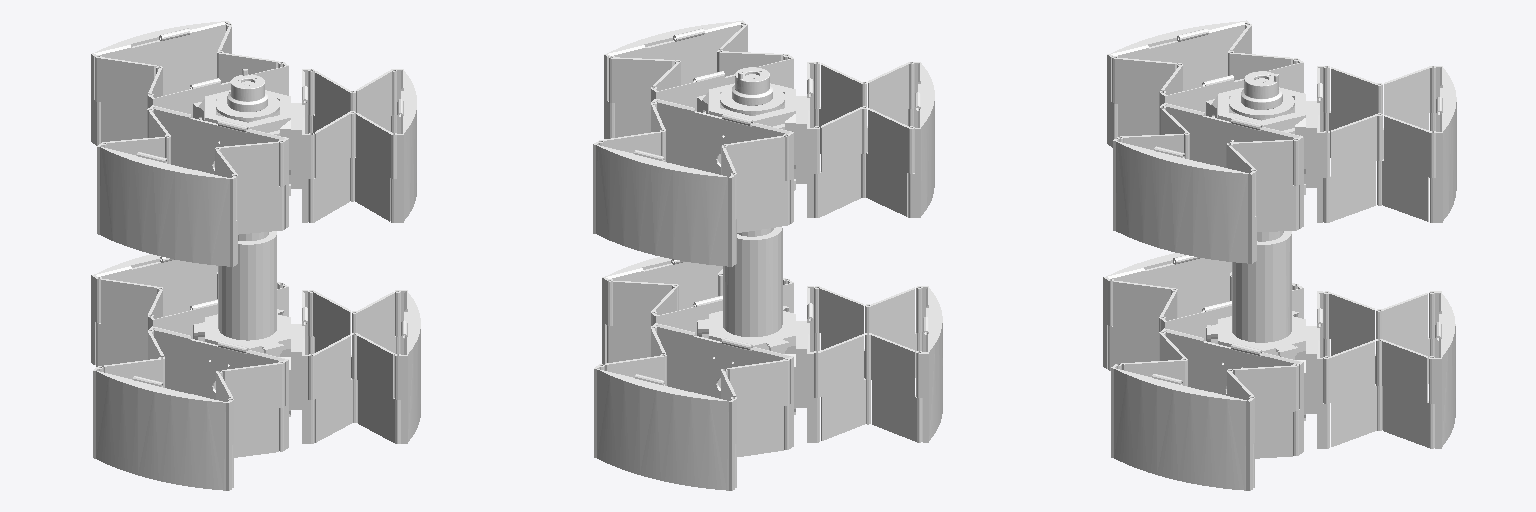
--- Facts derived from the render (not from the file) ---
Views: 3 orthographic renders of the robot side by side, from view 1: azimuth 30°, elevation 25°; view 2: azimuth 150°, elevation 25°; view 3: azimuth 270°, elevation 25°.
Robot: robot_model — 33 links, 32 joints (31 revolute, 1 prismatic); root link base_link; default pose: every joint at zero.
Links seen in each view (by area): view 1: base_link, upper_base_link, bottom_link_3_3, upper_link_3_3, upper_link_1_3, bottom_link_1_3, bottom_link_3_1, upper_link_3_1, bottom_link_1_2, upper_link_1_2, bottom_link_2_4, bottom_link_2_5 (+11 smaller); view 2: base_link, upper_base_link, upper_link_1_3, bottom_link_1_3, upper_link_1_1, bottom_link_1_1, bottom_link_3_5, bottom_link_3_4, upper_link_2_3, upper_link_3_5, upper_link_3_4, bottom_link_2_3 (+11 smaller); view 3: base_link, bottom_link_2_3, upper_link_2_3, upper_base_link, upper_link_3_3, bottom_link_3_3, upper_link_1_4, bottom_link_1_4, bottom_link_1_5, upper_link_1_5, bottom_link_3_2, bottom_link_2_1 (+13 smaller).
Boxes of the visible links, <box> form: base_link: <box>149,231,314,451</box>; upper_base_link: <box>147,62,314,240</box>; bottom_link_3_3: <box>93,366,233,490</box>; upper_link_3_3: <box>97,144,237,266</box>; upper_link_1_3: <box>91,21,229,145</box>; bottom_link_1_3: <box>91,254,217,364</box>; bottom_link_3_1: <box>222,361,284,457</box>; upper_link_3_1: <box>215,142,284,234</box>; bottom_link_1_2: <box>96,279,162,366</box>; upper_link_1_2: <box>95,55,157,142</box>; bottom_link_2_4: <box>308,334,357,442</box>; bottom_link_2_5: <box>352,333,400,443</box>; base_link: <box>653,227,819,449</box>; upper_base_link: <box>651,54,819,236</box>; upper_link_1_3: <box>593,142,736,266</box>; bottom_link_1_3: <box>594,364,736,490</box>; upper_link_1_1: <box>721,136,789,232</box>; bottom_link_1_1: <box>726,358,789,456</box>; bottom_link_3_5: <box>865,333,922,442</box>; bottom_link_3_4: <box>814,334,870,440</box>; upper_link_2_3: <box>604,20,744,138</box>; upper_link_3_5: <box>861,108,914,216</box>; upper_link_3_4: <box>814,106,866,217</box>; bottom_link_2_3: <box>602,257,722,363</box>; base_link: <box>1161,231,1329,455</box>; bottom_link_2_3: <box>1111,364,1254,490</box>; upper_link_2_3: <box>1113,139,1256,263</box>; upper_base_link: <box>1159,58,1329,241</box>; upper_link_3_3: <box>1107,20,1248,147</box>; bottom_link_3_3: <box>1103,253,1231,368</box>; upper_link_1_4: <box>1323,113,1382,222</box>; bottom_link_1_4: <box>1323,340,1382,446</box>; bottom_link_1_5: <box>1376,339,1434,448</box>; upper_link_1_5: <box>1377,115,1435,221</box>; bottom_link_3_2: <box>1108,281,1177,370</box>; bottom_link_2_1: <box>1233,364,1298,458</box>.
Bounding box of the posed robot: 0.3412 × 0.3211 × 0.3463 m (x, y, z).
Meshes: 33 distinct files referenced, 32 mesh visuals loaded (32 binary STL); not drawn: 1 (reference not matched to a file when rendering).

The robot description file, URDF, robot "robot_model":
<?xml version="1.0" encoding="utf-8"?>
<!-- This URDF was automatically created by SolidWorks to URDF Exporter! Originally created by Stephen Brawner ([email redacted]) 
     Commit Version: 1.6.0-4-g7f85cfe  Build Version: 1.6.7995.38578
     For more information, please see http://wiki.ros.org/sw_urdf_exporter -->
<robot
  name="robot_model">
  <link
    name="base_link">
    <inertial>
      <origin
        xyz="0 -6.9389E-17 0.061246"
        rpy="0 0 0" />
      <mass
        value="0.50026" />
      <inertia
        ixx="0.0011078"
        ixy="5.421E-20"
        ixz="2.1176E-20"
        iyy="0.0011078"
        iyz="-5.438E-19"
        izz="0.00063517" />
    </inertial>
    <visual>
      <origin
        xyz="0 0 0"
        rpy="0 0 0" />
      <geometry>
        <mesh
          filename="package://robot_model/meshes/base_link.STL" />
      </geometry>
      <material
        name="">
        <color
          rgba="1 1 1 1" />
      </material>
    </visual>
    <collision>
      <origin
        xyz="0 0 0"
        rpy="0 0 0" />
      <geometry>
        <mesh
          filename="package://robot_model/meshes/base_link.STL" />
      </geometry>
    </collision>
  </link>
  <link
    name="bottom_link_1_1">
    <inertial>
      <origin
        xyz="0.032953 0.0015 -0.043236"
        rpy="0 0 0" />
      <mass
        value="0.016709" />
      <inertia
        ixx="1.1115E-05"
        ixy="-8.0627E-08"
        ixz="1.8107E-06"
        iyy="1.6771E-05"
        iyz="5.8697E-08"
        izz="5.6972E-06" />
    </inertial>
    <visual>
      <origin
        xyz="0 0 0"
        rpy="0 0 0" />
      <geometry>
        <mesh
          filename="package://robot_model/meshes/bottom_link_1_1.STL" />
      </geometry>
      <material
        name="">
        <color
          rgba="1 1 1 1" />
      </material>
    </visual>
    <collision>
      <origin
        xyz="0 0 0"
        rpy="0 0 0" />
      <geometry>
        <mesh
          filename="package://robot_model/meshes/bottom_link_1_1.STL" />
      </geometry>
    </collision>
  </link>
  <joint
    name="bottom_joint_1_1"
    type="revolute">
    <origin
      xyz="-0.07 0.059 0.085"
      rpy="0 0.055591 0.85204" />
    <parent
      link="base_link" />
    <child
      link="bottom_link_1_1" />
    <axis
      xyz="0.055562 0 -0.99846" />
    <limit
      lower="0"
      upper="0"
      effort="0"
      velocity="0" />
  </joint>
  <link
    name="bottom_link_1_2">
    <inertial>
      <origin
        xyz="0.0305 -0.0015 -0.045"
        rpy="0 0 0" />
      <mass
        value="0.016709" />
      <inertia
        ixx="1.1299E-05"
        ixy="7.7241E-08"
        ixz="1.499E-06"
        iyy="1.6771E-05"
        iyz="-6.3086E-08"
        izz="5.5131E-06" />
    </inertial>
    <visual>
      <origin
        xyz="0 0 0"
        rpy="0 0 0" />
      <geometry>
        <mesh
          filename="package://robot_model/meshes/bottom_link_1_2.STL" />
      </geometry>
      <material
        name="">
        <color
          rgba="1 1 1 1" />
      </material>
    </visual>
    <collision>
      <origin
        xyz="0 0 0"
        rpy="0 0 0" />
      <geometry>
        <mesh
          filename="package://robot_model/meshes/bottom_link_1_2.STL" />
      </geometry>
    </collision>
  </link>
  <joint
    name="bottom_joint_1_2"
    type="revolute">
    <origin
      xyz="0.060906 0.003 0.0033893"
      rpy="-0.055099 -0.0073835 1.4377" />
    <parent
      link="bottom_link_1_1" />
    <child
      link="bottom_link_1_2" />
    <axis
      xyz="0 0 -1" />
    <limit
      lower="0"
      upper="0"
      effort="0"
      velocity="0" />
  </joint>
  <link
    name="bottom_link_1_3">
    <inertial>
      <origin
        xyz="0.070001 0.011933 -0.044687"
        rpy="0 0 0" />
      <mass
        value="0.14664" />
      <inertia
        ixx="0.00010095"
        ixy="4.7547E-10"
        ixz="-9.3214E-07"
        iyy="0.00028902"
        iyz="3.1691E-07"
        izz="0.00019062" />
    </inertial>
    <visual>
      <origin
        xyz="0 0 0"
        rpy="0 0 0" />
      <geometry>
        <mesh
          filename="package://robot_model/meshes/bottom_link_1_3.STL" />
      </geometry>
      <material
        name="">
        <color
          rgba="1 1 1 1" />
      </material>
    </visual>
    <collision>
      <origin
        xyz="0 0 0"
        rpy="0 0 0" />
      <geometry>
        <mesh
          filename="package://robot_model/meshes/bottom_link_1_3.STL" />
      </geometry>
    </collision>
  </link>
  <joint
    name="bottom_joint_1_3"
    type="revolute">
    <origin
      xyz="0.061 -0.003 0"
      rpy="0 0 -2.2896" />
    <parent
      link="bottom_link_1_2" />
    <child
      link="bottom_link_1_3" />
    <axis
      xyz="0 0 -1" />
    <limit
      lower="0"
      upper="0"
      effort="0"
      velocity="0" />
  </joint>
  <link
    name="bottom_link_1_4">
    <inertial>
      <origin
        xyz="0.0305 -0.0015 -0.0450000000000001"
        rpy="0 0 0" />
      <mass
        value="0.0167092266655334" />
      <inertia
        ixx="1.12993899246112E-05"
        ixy="7.72408699481511E-08"
        ixz="1.49898179922226E-06"
        iyy="1.67711222702261E-05"
        iyz="-6.308639996175E-08"
        izz="5.51305619636719E-06" />
    </inertial>
    <visual>
      <origin
        xyz="0 0 0"
        rpy="0 0 0" />
      <geometry>
        <mesh
          filename="package://robot_model/meshes/bottom_link_1_4.STL" />
      </geometry>
      <material
        name="">
        <color
          rgba="1 1 1 1" />
      </material>
    </visual>
    <collision>
      <origin
        xyz="0 0 0"
        rpy="0 0 0" />
      <geometry>
        <mesh
          filename="package://robot_model/meshes/bottom_link_1_4.STL" />
      </geometry>
    </collision>
  </link>
  <joint
    name="bottom_joint_1_4"
    type="revolute">
    <origin
      xyz="0.07 0.059 0.085"
      rpy="0 0 2.2896" />
    <parent
      link="base_link" />
    <child
      link="bottom_link_1_4" />
    <axis
      xyz="0 0 -1" />
    <limit
      lower="0"
      upper="0"
      effort="0"
      velocity="0" />
  </joint>
  <link
    name="bottom_link_1_5">
    <inertial>
      <origin
        xyz="0.0305 0.0015 -0.045"
        rpy="0 0 0" />
      <mass
        value="0.0167092266655333" />
      <inertia
        ixx="1.12993899246111E-05"
        ixy="-7.72408699481488E-08"
        ixz="1.49898179922225E-06"
        iyy="1.67711222702261E-05"
        iyz="6.30863999617497E-08"
        izz="5.51305619636717E-06" />
    </inertial>
    <visual>
      <origin
        xyz="0 0 0"
        rpy="0 0 0" />
      <geometry>
        <mesh
          filename="package://robot_model/meshes/bottom_link_1_5.STL" />
      </geometry>
      <material
        name="">
        <color
          rgba="1 1 1 1" />
      </material>
    </visual>
    <collision>
      <origin
        xyz="0 0 0"
        rpy="0 0 0" />
      <geometry>
        <mesh
          filename="package://robot_model/meshes/bottom_link_1_5.STL" />
      </geometry>
    </collision>
  </link>
  <joint
    name="bottom_joint_1_5"
    type="revolute">
    <origin
      xyz="0.061 -0.003 0"
      rpy="0 0 -1.4375" />
    <parent
      link="bottom_link_1_4" />
    <child
      link="bottom_link_1_5" />
    <axis
      xyz="0 0 -1" />
    <limit
      lower="0"
      upper="0"
      effort="0"
      velocity="0" />
  </joint>
  <link
    name="bottom_link_2_1">
    <inertial>
      <origin
        xyz="0.0323038618709952 0.00150000000002677 -0.0437231118313758"
        rpy="0 0 0" />
      <mass
        value="0.0167092266655333" />
      <inertia
        ixx="1.11680760652139E-05"
        ixy="-7.97412442441504E-08"
        ixz="1.72902542443584E-06"
        iyy="1.6771122270226E-05"
        iyz="5.98947394758148E-08"
        izz="5.64437005576434E-06" />
    </inertial>
    <visual>
      <origin
        xyz="0 0 0"
        rpy="0 0 0" />
      <geometry>
        <mesh
          filename="package://robot_model/meshes/bottom_link_2_1.STL" />
      </geometry>
      <material
        name="">
        <color
          rgba="1 1 1 1" />
      </material>
    </visual>
    <collision>
      <origin
        xyz="0 0 0"
        rpy="0 0 0" />
      <geometry>
        <mesh
          filename="package://robot_model/meshes/bottom_link_2_1.STL" />
      </geometry>
    </collision>
  </link>
  <joint
    name="bottom_joint_2_1"
    type="revolute">
    <origin
      xyz="0.086095 0.031122 0.085"
      rpy="0 0.040657 -1.4272" />
    <parent
      link="base_link" />
    <child
      link="bottom_link_2_1" />
    <axis
      xyz="0.040646 0 -0.99917" />
    <limit
      lower="0"
      upper="0"
      effort="0"
      velocity="0" />
  </joint>
  <link
    name="bottom_link_2_2">
    <inertial>
      <origin
        xyz="0.0316816988000864 -0.0015 -0.0441760111501776"
        rpy="0 0 0" />
      <mass
        value="0.0167092266655333" />
      <inertia
        ixx="1.12159150610143E-05"
        ixy="7.88854092632054E-08"
        ixz="1.65014902364536E-06"
        iyy="1.67711222702261E-05"
        iyz="-6.10175225313025E-08"
        izz="5.59653105996396E-06" />
    </inertial>
    <visual>
      <origin
        xyz="0 0 0"
        rpy="0 0 0" />
      <geometry>
        <mesh
          filename="package://robot_model/meshes/bottom_link_2_2.STL" />
      </geometry>
      <material
        name="">
        <color
          rgba="1 1 1 1" />
      </material>
    </visual>
    <collision>
      <origin
        xyz="0 0 0"
        rpy="0 0 0" />
      <geometry>
        <mesh
          filename="package://robot_model/meshes/bottom_link_2_2.STL" />
      </geometry>
    </collision>
  </link>
  <joint
    name="bottom_joint_2_2"
    type="revolute">
    <origin
      xyz="0.06095 0.003 0.0024794"
      rpy="-0.039551 0.036001 1.806" />
    <parent
      link="bottom_link_2_1" />
    <child
      link="bottom_link_2_2" />
    <axis
      xyz="0.026498 0 -0.99965" />
    <limit
      lower="0"
      upper="0"
      effort="0"
      velocity="0" />
  </joint>
  <link
    name="bottom_link_2_3">
    <inertial>
      <origin
        xyz="0.0699999817100601 0.0119307475595782 -0.0446871541670269"
        rpy="0 0 0" />
      <mass
        value="0.14664086162693" />
      <inertia
        ixx="0.0001009461163209"
        ixy="4.08874533460325E-10"
        ixz="-9.32140285730746E-07"
        iyy="0.000289021628271777"
        iyz="3.16909007234173E-07"
        izz="0.000190624860098751" />
    </inertial>
    <visual>
      <origin
        xyz="0 0 0"
        rpy="0 0 0" />
      <geometry>
        <mesh
          filename="package://robot_model/meshes/bottom_link_2_3.STL" />
      </geometry>
      <material
        name="">
        <color
          rgba="1 1 1 1" />
      </material>
    </visual>
    <collision>
      <origin
        xyz="0 0 0"
        rpy="0 0 0" />
      <geometry>
        <mesh
          filename="package://robot_model/meshes/bottom_link_2_3.STL" />
      </geometry>
    </collision>
  </link>
  <joint
    name="bottom_joint_2_3"
    type="revolute">
    <origin
      xyz="0.060979 -0.003 0.0016164"
      rpy="0.016401 0.020817 -2.4742" />
    <parent
      link="bottom_link_2_2" />
    <child
      link="bottom_link_2_3" />
    <axis
      xyz="0 0 -1" />
    <limit
      lower="0"
      upper="0"
      effort="0"
      velocity="0" />
  </joint>
  <link
    name="bottom_link_2_4">
    <inertial>
      <origin
        xyz="0.0316816988000293 -0.00149999999997225 -0.0441760111501792"
        rpy="0 0 0" />
      <mass
        value="0.0167092266655334" />
      <inertia
        ixx="1.12159150610143E-05"
        ixy="7.88854092632037E-08"
        ixz="1.65014902364536E-06"
        iyy="1.67711222702261E-05"
        iyz="-6.10175225313023E-08"
        izz="5.59653105996396E-06" />
    </inertial>
    <visual>
      <origin
        xyz="0 0 0"
        rpy="0 0 0" />
      <geometry>
        <mesh
          filename="package://robot_model/meshes/bottom_link_2_4.STL" />
      </geometry>
      <material
        name="">
        <color
          rgba="1 1 1 1" />
      </material>
    </visual>
    <collision>
      <origin
        xyz="0 0 0"
        rpy="0 0 0" />
      <geometry>
        <mesh
          filename="package://robot_model/meshes/bottom_link_2_4.STL" />
      </geometry>
    </collision>
  </link>
  <joint
    name="bottom_joint_2_4"
    type="revolute">
    <origin
      xyz="0.016095 -0.090122 0.085"
      rpy="0 0.026501 0.38001" />
    <parent
      link="base_link" />
    <child
      link="bottom_link_2_4" />
    <axis
      xyz="0.026498 0 -0.99965" />
    <limit
      lower="0"
      upper="0"
      effort="0"
      velocity="0" />
  </joint>
  <link
    name="bottom_link_2_5">
    <inertial>
      <origin
        xyz="0.0323038618710062 0.00149999999999999 -0.0437231118313753"
        rpy="0 0 0" />
      <mass
        value="0.0167092266655334" />
      <inertia
        ixx="1.11680760652139E-05"
        ixy="-7.97412442441517E-08"
        ixz="1.72902542443589E-06"
        iyy="1.67711222702261E-05"
        iyz="5.98947394758156E-08"
        izz="5.64437005576438E-06" />
    </inertial>
    <visual>
      <origin
        xyz="0 0 0"
        rpy="0 0 0" />
      <geometry>
        <mesh
          filename="package://robot_model/meshes/bottom_link_2_5.STL" />
      </geometry>
      <material
        name="">
        <color
          rgba="1 1 1 1" />
      </material>
    </visual>
    <collision>
      <origin
        xyz="0 0 0"
        rpy="0 0 0" />
      <geometry>
        <mesh
          filename="package://robot_model/meshes/bottom_link_2_5.STL" />
      </geometry>
    </collision>
  </link>
  <joint
    name="bottom_joint_2_5"
    type="revolute">
    <origin
      xyz="0.060979 -0.003 0.0016164"
      rpy="0.025792 0.04685 -1.8061" />
    <parent
      link="bottom_link_2_4" />
    <child
      link="bottom_link_2_5" />
    <axis
      xyz="0.040646 0 -0.99917" />
    <limit
      lower="0"
      upper="0"
      effort="0"
      velocity="0" />
  </joint>
  <link
    name="bottom_link_3_1">
    <inertial>
      <origin
        xyz="0.0304999999999998 0.00149999999999997 -0.045"
        rpy="0 0 0" />
      <mass
        value="0.0167092266655333" />
      <inertia
        ixx="1.12993899246111E-05"
        ixy="-7.72408699481509E-08"
        ixz="1.49898179922225E-06"
        iyy="1.6771122270226E-05"
        iyz="6.30863999617512E-08"
        izz="5.51305619636717E-06" />
    </inertial>
    <visual>
      <origin
        xyz="0 0 0"
        rpy="0 0 0" />
      <geometry>
        <mesh
          filename="package://robot_model/meshes/bottom_link_3_1.STL" />
      </geometry>
      <material
        name="">
        <color
          rgba="1 1 1 1" />
      </material>
    </visual>
    <collision>
      <origin
        xyz="0 0 0"
        rpy="0 0 0" />
      <geometry>
        <mesh
          filename="package://robot_model/meshes/bottom_link_3_1.STL" />
      </geometry>
    </collision>
  </link>
  <joint
    name="bottom_joint_3_1"
    type="revolute">
    <origin
      xyz="-0.016095 -0.090122 0.085"
      rpy="0 0 2.9167" />
    <parent
      link="base_link" />
    <child
      link="bottom_link_3_1" />
    <axis
      xyz="0 0 -1" />
    <limit
      lower="0"
      upper="0"
      effort="0"
      velocity="0" />
  </joint>
  <link
    name="bottom_link_3_2">
    <inertial>
      <origin
        xyz="0.0304999999999999 -0.00150000000000008 -0.045"
        rpy="0 0 0" />
      <mass
        value="0.0167092266655334" />
      <inertia
        ixx="1.12993899246111E-05"
        ixy="7.72408699481505E-08"
        ixz="1.49898179922225E-06"
        iyy="1.67711222702261E-05"
        iyz="-6.30863999617503E-08"
        izz="5.51305619636718E-06" />
    </inertial>
    <visual>
      <origin
        xyz="0 0 0"
        rpy="0 0 0" />
      <geometry>
        <mesh
          filename="package://robot_model/meshes/bottom_link_3_2.STL" />
      </geometry>
      <material
        name="">
        <color
          rgba="1 1 1 1" />
      </material>
    </visual>
    <collision>
      <origin
        xyz="0 0 0"
        rpy="0 0 0" />
      <geometry>
        <mesh
          filename="package://robot_model/meshes/bottom_link_3_2.STL" />
      </geometry>
    </collision>
  </link>
  <joint
    name="bottom_joint_3_2"
    type="revolute">
    <origin
      xyz="0.061 0.003 0"
      rpy="0 0 1.497" />
    <parent
      link="bottom_link_3_1" />
    <child
      link="bottom_link_3_2" />
    <axis
      xyz="0 0 -1" />
    <limit
      lower="0"
      upper="0"
      effort="0"
      velocity="0" />
  </joint>
  <link
    name="bottom_link_3_3">
    <inertial>
      <origin
        xyz="0.070000626800577 0.0119332957343058 -0.0446871895124752"
        rpy="0 0 0" />
      <mass
        value="0.14664410061026" />
      <inertia
        ixx="0.000100945970506456"
        ixy="4.06926128643931E-10"
        ixz="-9.32140319989326E-07"
        iyy="0.000289022168631917"
        iyz="3.16907445634966E-07"
        izz="0.000190625260305374" />
    </inertial>
    <visual>
      <origin
        xyz="0 0 0"
        rpy="0 0 0" />
      <geometry>
        <mesh
          filename="package://robot_model/meshes/bottom_link_3_3.STL" />
      </geometry>
      <material
        name="">
        <color
          rgba="1 1 1 1" />
      </material>
    </visual>
    <collision>
      <origin
        xyz="0 0 0"
        rpy="0 0 0" />
      <geometry>
        <mesh
          filename="package://robot_model/meshes/bottom_link_3_3.STL" />
      </geometry>
    </collision>
  </link>
  <joint
    name="bottom_joint_3_3"
    type="revolute">
    <origin
      xyz="0.061 -0.003 0"
      rpy="0 0 -2.3193" />
    <parent
      link="bottom_link_3_2" />
    <child
      link="bottom_link_3_3" />
    <axis
      xyz="0 0 -1" />
    <limit
      lower="0"
      upper="0"
      effort="0"
      velocity="0" />
  </joint>
  <link
    name="bottom_link_3_4">
    <inertial>
      <origin
        xyz="0.0304999999999999 -0.00149999999999999 -0.045"
        rpy="0 0 0" />
      <mass
        value="0.0167092266655333" />
      <inertia
        ixx="1.12993899246111E-05"
        ixy="7.72408699481509E-08"
        ixz="1.49898179922225E-06"
        iyy="1.67711222702261E-05"
        iyz="-6.30863999617501E-08"
        izz="5.51305619636718E-06" />
    </inertial>
    <visual>
      <origin
        xyz="0 0 0"
        rpy="0 0 0" />
      <geometry>
        <mesh
          filename="package://robot_model/meshes/bottom_link_3_4.STL" />
      </geometry>
      <material
        name="">
        <color
          rgba="1 1 1 1" />
      </material>
    </visual>
    <collision>
      <origin
        xyz="0 0 0"
        rpy="0 0 0" />
      <geometry>
        <mesh
          filename="package://robot_model/meshes/bottom_link_3_4.STL" />
      </geometry>
    </collision>
  </link>
  <joint
    name="bottom_joint_3_4"
    type="revolute">
    <origin
      xyz="-0.086095 0.031122 0.085"
      rpy="0 0 -1.8695" />
    <parent
      link="base_link" />
    <child
      link="bottom_link_3_4" />
    <axis
      xyz="0 0 -1" />
    <limit
      lower="0"
      upper="0"
      effort="0"
      velocity="0" />
  </joint>
  <link
    name="bottom_link_3_5">
    <inertial>
      <origin
        xyz="0.0305 0.00149999999999995 -0.045"
        rpy="0 0 0" />
      <mass
        value="0.0167092266655334" />
      <inertia
        ixx="1.12993899246111E-05"
        ixy="-7.72408699481521E-08"
        ixz="1.49898179922225E-06"
        iyy="1.67711222702261E-05"
        iyz="6.3086399961751E-08"
        izz="5.51305619636718E-06" />
    </inertial>
    <visual>
      <origin
        xyz="0 0 0"
        rpy="0 0 0" />
      <geometry>
        <mesh
          filename="package://robot_model/meshes/bottom_link_3_5.STL" />
      </geometry>
      <material
        name="">
        <color
          rgba="1 1 1 1" />
      </material>
    </visual>
    <collision>
      <origin
        xyz="0 0 0"
        rpy="0 0 0" />
      <geometry>
        <mesh
          filename="package://robot_model/meshes/bottom_link_3_5.STL" />
      </geometry>
    </collision>
  </link>
  <joint
    name="bottom_joint_3_5"
    type="revolute">
    <origin
      xyz="0.061 -0.003 0"
      rpy="0 0 -1.497" />
    <parent
      link="bottom_link_3_4" />
    <child
      link="bottom_link_3_5" />
    <axis
      xyz="0 0 -1" />
    <limit
      lower="0"
      upper="0"
      effort="0"
      velocity="0" />
  </joint>
  <link
    name="upper_base_link">
    <inertial>
      <origin
        xyz="3.8054621693262E-06 1.02185648802045E-05 0.10794535502489"
        rpy="0 0 0" />
      <mass
        value="0.385672064342801" />
      <inertia
        ixx="0.00093048171448076"
        ixy="-1.91722020977971E-08"
        ixz="-7.52239479311428E-09"
        iyy="0.000930437800700538"
        iyz="-2.00548156529821E-08"
        izz="0.000352171446989648" />
    </inertial>
    <visual>
      <origin
        xyz="0 0 0"
        rpy="0 0 0" />
      <geometry>
        <mesh
          filename="package://robot_model/meshes/upper_base_link.STL" />
      </geometry>
      <material
        name="">
        <color
          rgba="1 1 1 1" />
      </material>
    </visual>
    <collision>
      <origin
        xyz="0 0 0"
        rpy="0 0 0" />
      <geometry>
        <mesh
          filename="package://robot_model/meshes/upper_base_link.STL" />
      </geometry>
    </collision>
  </link>
  <joint
    name="upper_base_joint"
    type="prismatic">
    <origin
      xyz="0 0 0.13128"
      rpy="0 0 0" />
    <parent
      link="base_link" />
    <child
      link="upper_base_link" />
    <axis
      xyz="0 0 1" />
    <limit
      lower="-1"
      upper="1"
      effort="10"
      velocity="10" />
  </joint>
  <link
    name="upper_link_1_1">
    <inertial>
      <origin
        xyz="0.0330321547264932 0.00150000000000104 -0.0431755342077551"
        rpy="0 0 0" />
      <mass
        value="0.0167092266655333" />
      <inertia
        ixx="1.14520947743875E-05"
        ixy="-7.34932329622697E-08"
        ixz="-1.15759511079079E-06"
        iyy="1.67711222702261E-05"
        iyz="-6.74150618128821E-08"
        izz="5.36035134659078E-06" />
    </inertial>
    <visual>
      <origin
        xyz="0 0 0"
        rpy="0 0 0" />
      <geometry>
        <mesh
          filename="package://robot_model/meshes/upper_link_1_1.STL" />
      </geometry>
      <material
        name="">
        <color
          rgba="1 1 1 1" />
      </material>
    </visual>
    <collision>
      <origin
        xyz="0 0 0"
        rpy="0 0 0" />
      <geometry>
        <mesh
          filename="package://robot_model/meshes/upper_link_1_1.STL" />
      </geometry>
    </collision>
  </link>
  <joint
    name="upper_joint_1_1"
    type="revolute">
    <origin
      xyz="-0.07 0.059 0.18"
      rpy="0 0.057419 0.86401" />
    <parent
      link="upper_base_link" />
    <child
      link="upper_link_1_1" />
    <axis
      xyz="0.057387 0 -0.99835" />
    <limit
      lower="0"
      upper="0"
      effort="0"
      velocity="0" />
  </joint>
  <link
    name="upper_link_1_2">
    <inertial>
      <origin
        xyz="0.0304999999999992 -0.00149999999999961 -0.045"
        rpy="0 0 0" />
      <mass
        value="0.0167092266655333" />
      <inertia
        ixx="1.12993899246111E-05"
        ixy="7.72408699481494E-08"
        ixz="-1.49898179922226E-06"
        iyy="1.67711222702261E-05"
        iyz="6.30863999617509E-08"
        izz="5.51305619636718E-06" />
    </inertial>
    <visual>
      <origin
        xyz="0 0 0"
        rpy="0 0 0" />
      <geometry>
        <mesh
          filename="package://robot_model/meshes/upper_link_1_2.STL" />
      </geometry>
      <material
        name="">
        <color
          rgba="1 1 1 1" />
      </material>
    </visual>
    <collision>
      <origin
        xyz="0 0 0"
        rpy="0 0 0" />
      <geometry>
        <mesh
          filename="package://robot_model/meshes/upper_link_1_2.STL" />
      </geometry>
    </collision>
  </link>
  <joint
    name="upper_joint_1_2"
    type="revolute">
    <origin
      xyz="0.060899 0.003 0.0035006"
      rpy="-0.056712 -0.0089859 1.4138" />
    <parent
      link="upper_link_1_1" />
    <child
      link="upper_link_1_2" />
    <axis
      xyz="0 0 -1" />
    <limit
      lower="0"
      upper="0"
      effort="0"
      velocity="0" />
  </joint>
  <link
    name="upper_link_1_3">
    <inertial>
      <origin
        xyz="0.0699994466294927 0.011932926537144 -0.0453128069074418"
        rpy="0 0 0" />
      <mass
        value="0.146644072509461" />
      <inertia
        ixx="0.000100945826420388"
        ixy="-4.51350548183796E-10"
        ixz="-9.32140878461183E-07"
        iyy="0.000289022708610787"
        iyz="-3.16905927234267E-07"
        izz="0.000190625661837862" />
    </inertial>
    <visual>
      <origin
        xyz="0 0 0"
        rpy="0 0 0" />
      <geometry>
        <mesh
          filename="package://robot_model/meshes/upper_link_1_3.STL" />
      </geometry>
      <material
        name="">
        <color
          rgba="1 1 1 1" />
      </material>
    </visual>
    <collision>
      <origin
        xyz="0 0 0"
        rpy="0 0 0" />
      <geometry>
        <mesh
          filename="package://robot_model/meshes/upper_link_1_3.STL" />
      </geometry>
    </collision>
  </link>
  <joint
    name="upper_joint_1_3"
    type="revolute">
    <origin
      xyz="0.061 -0.003 0"
      rpy="0 0 -2.2776" />
    <parent
      link="upper_link_1_2" />
    <child
      link="upper_link_1_3" />
    <axis
      xyz="0 0 -1" />
    <limit
      lower="0"
      upper="0"
      effort="0"
      velocity="0" />
  </joint>
  <link
    name="upper_link_1_4">
    <inertial>
      <origin
        xyz="0.0304999999999999 -0.00150000000000072 -0.045"
        rpy="0 0 0" />
      <mass
        value="0.0167092266655334" />
      <inertia
        ixx="1.12993899246111E-05"
        ixy="7.72408699481507E-08"
        ixz="-1.49898179922225E-06"
        iyy="1.67711222702261E-05"
        iyz="6.30863999617501E-08"
        izz="5.51305619636718E-06" />
    </inertial>
    <visual>
      <origin
        xyz="0 0 0"
        rpy="0 0 0" />
      <geometry>
        <mesh
          filename="package://robot_model/meshes/upper_link_1_4.STL" />
      </geometry>
      <material
        name="">
        <color
          rgba="1 1 1 1" />
      </material>
    </visual>
    <collision>
      <origin
        xyz="0 0 0"
        rpy="0 0 0" />
      <geometry>
        <mesh
          filename="package://robot_model/meshes/upper_link_1_4.STL" />
      </geometry>
    </collision>
  </link>
  <joint
    name="upper_joint_1_4"
    type="revolute">
    <origin
      xyz="0.07 0.059 0.18"
      rpy="0 0 2.2776" />
    <parent
      link="upper_base_link" />
    <child
      link="upper_link_1_4" />
    <axis
      xyz="0 0 -1" />
    <limit
      lower="0"
      upper="0"
      effort="0"
      velocity="0" />
  </joint>
  <link
    name="upper_link_1_5">
    <inertial>
      <origin
        xyz="0.0330321547264928 0.00150000000000001 -0.0431755342077551"
        rpy="0 0 0" />
      <mass
        value="0.0167092266655333" />
      <inertia
        ixx="1.14520947743875E-05"
        ixy="-7.34932329622697E-08"
        ixz="-1.15759511079079E-06"
        iyy="1.67711222702261E-05"
        iyz="-6.74150618128823E-08"
        izz="5.36035134659077E-06" />
    </inertial>
    <visual>
      <origin
        xyz="0 0 0"
        rpy="0 0 0" />
      <geometry>
        <mesh
          filename="package://robot_model/meshes/upper_link_1_5.STL" />
      </geometry>
      <material
        name="">
        <color
          rgba="1 1 1 1" />
      </material>
    </visual>
    <collision>
      <origin
        xyz="0 0 0"
        rpy="0 0 0" />
      <geometry>
        <mesh
          filename="package://robot_model/meshes/upper_link_1_5.STL" />
      </geometry>
    </collision>
  </link>
  <joint
    name="upper_joint_1_5"
    type="revolute">
    <origin
      xyz="0.061 -0.003 0"
      rpy="0 0.057419 -1.4136" />
    <parent
      link="upper_link_1_4" />
    <child
      link="upper_link_1_5" />
    <axis
      xyz="0.057387 0 -0.99835" />
    <limit
      lower="0"
      upper="0"
      effort="0"
      velocity="0" />
  </joint>
  <link
    name="upper_link_2_1">
    <inertial>
      <origin
        xyz="0.0324368656416264 0.00149999999999348 -0.0436245314857049"
        rpy="0 0 0" />
      <mass
        value="0.0167092266655333" />
      <inertia
        ixx="1.14191973679731E-05"
        ixy="-7.44109634737808E-08"
        ixz="-1.24070413898489E-06"
        iyy="1.6771122270226E-05"
        iyz="-6.64007105789139E-08"
        izz="5.39324875300514E-06" />
    </inertial>
    <visual>
      <origin
        xyz="0 0 0"
        rpy="0 0 0" />
      <geometry>
        <mesh
          filename="package://robot_model/meshes/upper_link_2_1.STL" />
      </geometry>
      <material
        name="">
        <color
          rgba="1 1 1 1" />
      </material>
    </visual>
    <collision>
      <origin
        xyz="0 0 0"
        rpy="0 0 0" />
      <geometry>
        <mesh
          filename="package://robot_model/meshes/upper_link_2_1.STL" />
      </geometry>
    </collision>
  </link>
  <joint
    name="upper_joint_2_1"
    type="revolute">
    <origin
      xyz="0.086095 0.031122 0.18"
      rpy="0 0.043703 -1.4652" />
    <parent
      link="upper_base_link" />
    <child
      link="upper_link_2_1" />
    <axis
      xyz="0.043689 0 -0.99905" />
    <limit
      lower="0"
      upper="0"
      effort="0"
      velocity="0" />
  </joint>
  <link
    name="upper_link_2_2">
    <inertial>
      <origin
        xyz="0.0304999999999955 -0.00150000000000061 -0.045"
        rpy="0 0 0" />
      <mass
        value="0.0167092266655334" />
      <inertia
        ixx="1.12993899246111E-05"
        ixy="7.72408699481503E-08"
        ixz="-1.49898179922225E-06"
        iyy="1.67711222702261E-05"
        iyz="6.30863999617509E-08"
        izz="5.51305619636719E-06" />
    </inertial>
    <visual>
      <origin
        xyz="0 0 0"
        rpy="0 0 0" />
      <geometry>
        <mesh
          filename="package://robot_model/meshes/upper_link_2_2.STL" />
      </geometry>
      <material
        name="">
        <color
          rgba="1 1 1 1" />
      </material>
    </visual>
    <collision>
      <origin
        xyz="0 0 0"
        rpy="0 0 0" />
      <geometry>
        <mesh
          filename="package://robot_model/meshes/upper_link_2_2.STL" />
      </geometry>
    </collision>
  </link>
  <joint
    name="upper_joint_2_2"
    type="revolute">
    <origin
      xyz="0.060942 0.003 0.002665"
      rpy="-0.041591 0.013425 1.8828" />
    <parent
      link="upper_link_2_1" />
    <child
      link="upper_link_2_2" />
    <axis
      xyz="0 0 -1" />
    <limit
      lower="0"
      upper="0"
      effort="0"
      velocity="0" />
  </joint>
  <link
    name="upper_link_2_3">
    <inertial>
      <origin
        xyz="0.069999389681573 0.0119332969912204 -0.045312810858336"
        rpy="0 0 0" />
      <mass
        value="0.146644101046133" />
      <inertia
        ixx="0.000100945970159477"
        ixy="-4.41242520743496E-10"
        ixz="-9.32140680689395E-07"
        iyy="0.000289022172944385"
        iyz="-3.16906462410994E-07"
        izz="0.00019062526435715" />
    </inertial>
    <visual>
      <origin
        xyz="0 0 0"
        rpy="0 0 0" />
      <geometry>
        <mesh
          filename="package://robot_model/meshes/upper_link_2_3.STL" />
      </geometry>
      <material
        name="">
        <color
          rgba="1 1 1 1" />
      </material>
    </visual>
    <collision>
      <origin
        xyz="0 0 0"
        rpy="0 0 0" />
      <geometry>
        <mesh
          filename="package://robot_model/meshes/upper_link_2_3.STL" />
      </geometry>
    </collision>
  </link>
  <joint
    name="upper_joint_2_3"
    type="revolute">
    <origin
      xyz="0.061 -0.003 0"
      rpy="0 0 -2.5124" />
    <parent
      link="upper_link_2_2" />
    <child
      link="upper_link_2_3" />
    <axis
      xyz="0 0 -1" />
    <limit
      lower="0"
      upper="0"
      effort="0"
      velocity="0" />
  </joint>
  <link
    name="upper_link_2_4">
    <inertial>
      <origin
        xyz="0.0317244968562645 -0.00149999999995729 -0.0441452862626575"
        rpy="0 0 0" />
      <mass
        value="0.0167092266655333" />
      <inertia
        ixx="1.13773378479123E-05"
        ixy="7.54789496332979E-08"
        ixz="-1.33784821934645E-06"
        iyy="1.6771122270226E-05"
        iyz="6.51841546139475E-08"
        izz="5.435108273066E-06" />
    </inertial>
    <visual>
      <origin
        xyz="0 0 0"
        rpy="0 0 0" />
      <geometry>
        <mesh
          filename="package://robot_model/meshes/upper_link_2_4.STL" />
      </geometry>
      <material
        name="">
        <color
          rgba="1 1 1 1" />
      </material>
    </visual>
    <collision>
      <origin
        xyz="0 0 0"
        rpy="0 0 0" />
      <geometry>
        <mesh
          filename="package://robot_model/meshes/upper_link_2_4.STL" />
      </geometry>
    </collision>
  </link>
  <joint
    name="upper_joint_2_4"
    type="revolute">
    <origin
      xyz="0.016095 -0.090122 0.18"
      rpy="0 0.02747 0.41796" />
    <parent
      link="upper_base_link" />
    <child
      link="upper_link_2_4" />
    <axis
      xyz="0.027467 0 -0.99962" />
    <limit
      lower="0"
      upper="0"
      effort="0"
      velocity="0" />
  </joint>
  <link
    name="upper_link_2_5">
    <inertial>
      <origin
        xyz="0.0324368656416042 0.00150000000016408 -0.0436245314857071"
        rpy="0 0 0" />
      <mass
        value="0.0167092266655334" />
      <inertia
        ixx="1.14191973679731E-05"
        ixy="-7.44109634737855E-08"
        ixz="-1.24070413898513E-06"
        iyy="1.67711222702261E-05"
        iyz="-6.64007105789104E-08"
        izz="5.39324875300525E-06" />
    </inertial>
    <visual>
      <origin
        xyz="0 0 0"
        rpy="0 0 0" />
      <geometry>
        <mesh
          filename="package://robot_model/meshes/upper_link_2_5.STL" />
      </geometry>
      <material
        name="">
        <color
          rgba="1 1 1 1" />
      </material>
    </visual>
    <collision>
      <origin
        xyz="0 0 0"
        rpy="0 0 0" />
      <geometry>
        <mesh
          filename="package://robot_model/meshes/upper_link_2_5.STL" />
      </geometry>
    </collision>
  </link>
  <joint
    name="upper_joint_2_5"
    type="revolute">
    <origin
      xyz="0.060977 -0.003 0.0016755"
      rpy="0.026176 0.052128 -1.8819" />
    <parent
      link="upper_link_2_4" />
    <child
      link="upper_link_2_5" />
    <axis
      xyz="0.043689 0 -0.99905" />
    <limit
      lower="0"
      upper="0"
      effort="0"
      velocity="0" />
  </joint>
  <link
    name="upper_link_3_1">
    <inertial>
      <origin
        xyz="0.0304999999999999 0.00149999999999989 -0.0450000000000001"
        rpy="0 0 0" />
      <mass
        value="0.0167092266655334" />
      <inertia
        ixx="1.12993899246111E-05"
        ixy="-7.724086994815E-08"
        ixz="-1.49898179922226E-06"
        iyy="1.67711222702261E-05"
        iyz="-6.30863999617502E-08"
        izz="5.51305619636718E-06" />
    </inertial>
    <visual>
      <origin
        xyz="0 0 0"
        rpy="0 0 0" />
      <geometry>
        <mesh
          filename="package://robot_model/meshes/upper_link_3_1.STL" />
      </geometry>
      <material
        name="">
        <color
          rgba="1 1 1 1" />
      </material>
    </visual>
    <collision>
      <origin
        xyz="0 0 0"
        rpy="0 0 0" />
      <geometry>
        <mesh
          filename="package://robot_model/meshes/upper_link_3_1.STL" />
      </geometry>
    </collision>
  </link>
  <joint
    name="upper_joint_3_1"
    type="revolute">
    <origin
      xyz="-0.016095 -0.090122 0.18"
      rpy="0 0 2.8286" />
    <parent
      link="upper_base_link" />
    <child
      link="upper_link_3_1" />
    <axis
      xyz="0 0 -1" />
    <limit
      lower="0"
      upper="0"
      effort="0"
      velocity="0" />
  </joint>
  <link
    name="upper_link_3_2">
    <inertial>
      <origin
        xyz="0.0361497975321969 -0.00150000000000662 -0.0406010115438156"
        rpy="0 0 0" />
      <mass
        value="0.0167092266655333" />
      <inertia
        ixx="1.15900428076615E-05"
        ixy="6.82793569492282E-08"
        ixz="-6.93291248731808E-07"
        iyy="1.67711222702261E-05"
        iyz="7.26909572442189E-08"
        izz="5.22240331331676E-06" />
    </inertial>
    <visual>
      <origin
        xyz="0 0 0"
        rpy="0 0 0" />
      <geometry>
        <mesh
          filename="package://robot_model/meshes/upper_link_3_2.STL" />
      </geometry>
      <material
        name="">
        <color
          rgba="1 1 1 1" />
      </material>
    </visual>
    <collision>
      <origin
        xyz="0 0 0"
        rpy="0 0 0" />
      <geometry>
        <mesh
          filename="package://robot_model/meshes/upper_link_3_2.STL" />
      </geometry>
    </collision>
  </link>
  <joint
    name="upper_joint_3_2"
    type="revolute">
    <origin
      xyz="0.061 0.003 0"
      rpy="0 0.13181 1.6732" />
    <parent
      link="upper_link_3_1" />
    <child
      link="upper_link_3_2" />
    <axis
      xyz="0.13143 0 -0.99133" />
    <limit
      lower="0"
      upper="0"
      effort="0"
      velocity="0" />
  </joint>
  <link
    name="upper_link_3_3">
    <inertial>
      <origin
        xyz="0.0699993753130561 -0.0457870749202472 -0.0099598017798079"
        rpy="0 0 0" />
      <mass
        value="0.146644087607802" />
      <inertia
        ixx="0.000100945928680762"
        ixy="-9.31248292172101E-07"
        ixz="4.07714842629275E-08"
        iyy="0.00019083733077368"
        iyz="4.57281409964629E-06"
        izz="0.000288810381434377" />
    </inertial>
    <visual>
      <origin
        xyz="0 0 0"
        rpy="0 0 0" />
      <geometry>
        <mesh
          filename="package://robot_model/meshes/upper_link_3_3.STL" />
      </geometry>
      <material
        name="">
        <color
          rgba="1 1 1 1" />
      </material>
    </visual>
    <collision>
      <origin
        xyz="0 0 0"
        rpy="0 0 0" />
      <geometry>
        <mesh
          filename="package://robot_model/meshes/upper_link_3_3.STL" />
      </geometry>
    </collision>
  </link>
  <joint
    name="upper_joint_3_3"
    type="revolute">
    <origin
      xyz="0.060471 -0.003 0.0080173"
      rpy="1.7027 0.097723 -2.403" />
    <parent
      link="upper_link_3_2" />
    <child
      link="upper_link_3_3" />
    <axis
      xyz="0 -0.99906 0.043305" />
    <limit
      lower="0"
      upper="0"
      effort="0"
      velocity="0" />
  </joint>
  <link
    name="upper_link_3_4">
    <inertial>
      <origin
        xyz="0.0304999999999895 -0.00150000000001282 -0.0449999999999999"
        rpy="0 0 0" />
      <mass
        value="0.0167092266655333" />
      <inertia
        ixx="1.12993899246111E-05"
        ixy="7.72408699481505E-08"
        ixz="-1.49898179922226E-06"
        iyy="1.67711222702261E-05"
        iyz="6.30863999617504E-08"
        izz="5.51305619636718E-06" />
    </inertial>
    <visual>
      <origin
        xyz="0 0 0"
        rpy="0 0 0" />
      <geometry>
        <mesh
          filename="package://robot_model/meshes/upper_link_3_4.STL" />
      </geometry>
      <material
        name="">
        <color
          rgba="1 1 1 1" />
      </material>
    </visual>
    <collision>
      <origin
        xyz="0 0 0"
        rpy="0 0 0" />
      <geometry>
        <mesh
          filename="package://robot_model/meshes/upper_link_3_4.STL" />
      </geometry>
    </collision>
  </link>
  <joint
    name="upper_joint_3_4"
    type="revolute">
    <origin
      xyz="-0.086095 0.031122 0.18"
      rpy="0 0 -1.7814" />
    <parent
      link="upper_base_link" />
    <child
      link="upper_link_3_4" />
    <axis
      xyz="0 0 -1" />
    <limit
      lower="0"
      upper="0"
      effort="0"
      velocity="0" />
  </joint>
  <link
    name="upper_link_3_5">
    <inertial>
      <origin
        xyz="0.0304999999999942 0.00150000000000253 -0.0449999999999999"
        rpy="0 0 0" />
      <mass
        value="0.0167092266655333" />
      <inertia
        ixx="1.12993899246111E-05"
        ixy="-7.72408699481509E-08"
        ixz="-1.49898179922226E-06"
        iyy="1.67711222702261E-05"
        iyz="-6.30863999617506E-08"
        izz="5.51305619636718E-06" />
    </inertial>
    <visual>
      <origin
        xyz="0 0 0"
        rpy="0 0 0" />
      <geometry>
        <mesh
          filename="package://robot_model/meshes/upper_link_3_5.STL" />
      </geometry>
      <material
        name="">
        <color
          rgba="1 1 1 1" />
      </material>
    </visual>
    <collision>
      <origin
        xyz="0 0 0"
        rpy="0 0 0" />
      <geometry>
        <mesh
          filename="package://robot_model/meshes/upper_link_3_5.STL" />
      </geometry>
    </collision>
  </link>
  <joint
    name="upper_joint_3_5"
    type="revolute">
    <origin
      xyz="0.061 -0.003 0"
      rpy="0 0 -1.6732" />
    <parent
      link="upper_link_3_4" />
    <child
      link="upper_link_3_5" />
    <axis
      xyz="0 0 -1" />
    <limit
      lower="0"
      upper="0"
      effort="0"
      velocity="0" />
  </joint>
  <link
    name="upper_camera_link">
    <inertial>
      <origin
        xyz="-0.00426076982533678 -7.28308578642096E-05 0.0670894358411604"
        rpy="0 0 0" />
      <mass
        value="0.161417572200827" />
      <inertia
        ixx="7.5878080462353E-05"
        ixy="-1.00805654974659E-06"
        ixz="-3.5871068735313E-05"
        iyy="0.000102209197653934"
        iyz="-2.08739087026815E-07"
        izz="6.98452021104462E-05" />
    </inertial>
    <visual>
      <origin
        xyz="0 0 0"
        rpy="0 0 0" />
      <geometry>
        <mesh
          filename="package://robot_model/meshes/upper_camera_link.STL" />
      </geometry>
      <material
        name="">
        <color
          rgba="0.792156862745098 0.819607843137255 0.933333333333333 1" />
      </material>
    </visual>
    <collision>
      <origin
        xyz="0 0 0"
        rpy="0 0 0" />
      <geometry>
        <mesh
          filename="package://robot_model/meshes/upper_camera_link.STL" />
      </geometry>
    </collision>
  </link>
  <joint
    name="upper_camera_joint"
    type="revolute">
    <origin
      xyz="0 0 0.1995"
      rpy="0 0 -1.7597" />
    <parent
      link="upper_base_link" />
    <child
      link="upper_camera_link" />
    <axis
      xyz="0 0 -1" />
    <limit
      lower="0"
      upper="0"
      effort="0"
      velocity="0" />
  </joint>
</robot>
